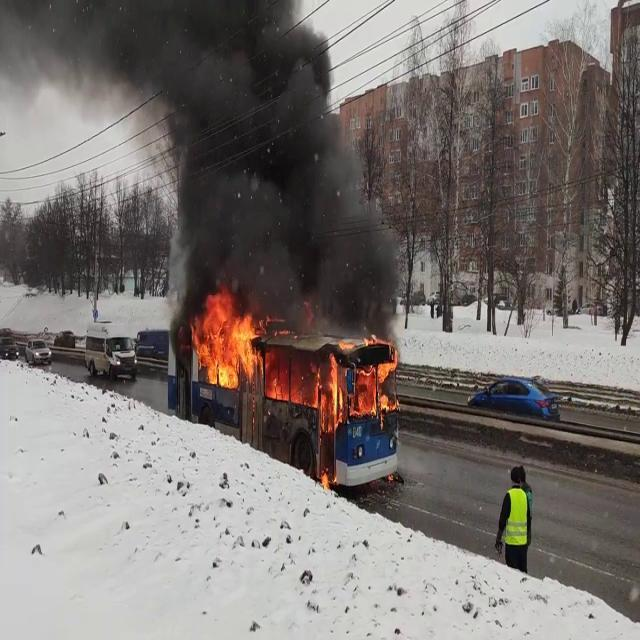Fire: (315, 334, 400, 428), (189, 292, 265, 389)
Smoke: (103, 0, 406, 326)
